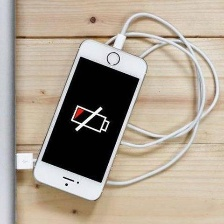phone: (29, 36, 149, 203)
